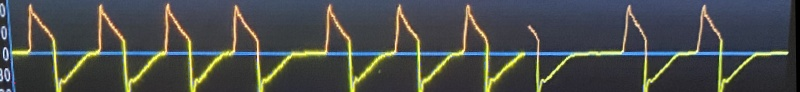normal_flow: (10, 0, 785, 92)
